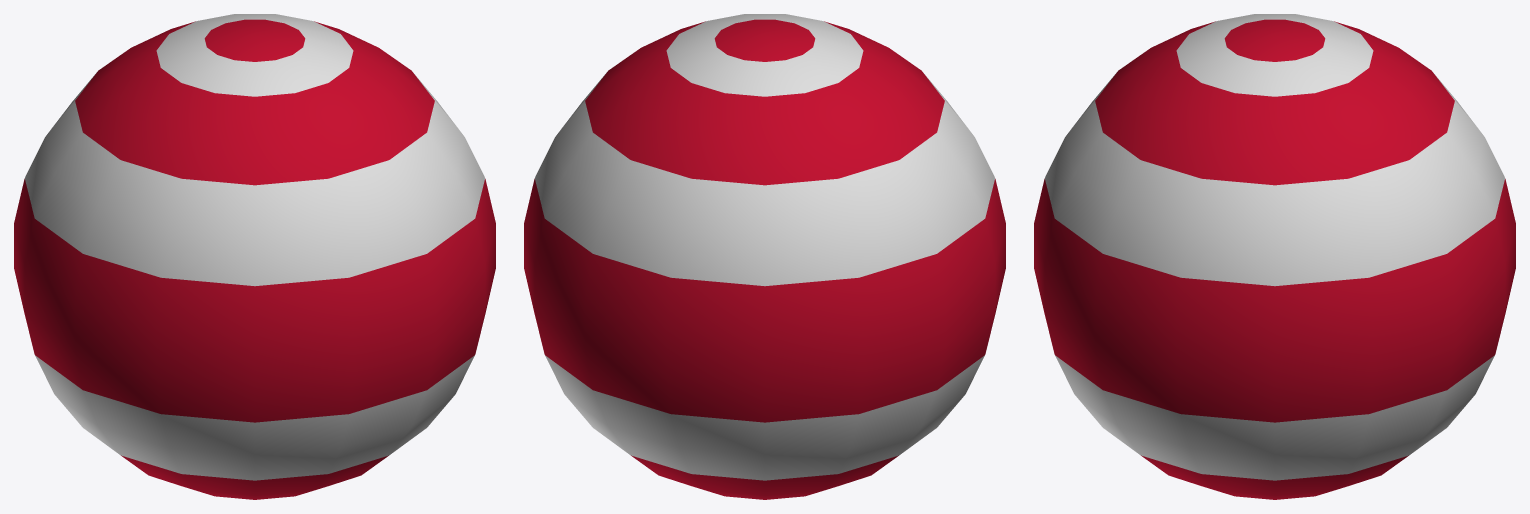
Rendered from PhysicBullet.fbx.
3 renders of one model, left to right at view 1: azimuth 30°, elevation 25°; view 2: azimuth 150°, elevation 25°; view 3: azimuth 270°, elevation 25°, orthographic.
Parts seen in each view (by area): view 1: PhysicBullet; view 2: PhysicBullet; view 3: PhysicBullet.
Part boxes in pixels (x1=…): PhysicBullet: x1=14, y1=14, x2=495, y2=499; PhysicBullet: x1=524, y1=14, x2=1005, y2=499; PhysicBullet: x1=1034, y1=14, x2=1515, y2=499.
Bounding box in the file's own units: 1.97 × 2 × 1.98.
1 material, 1 textured.
